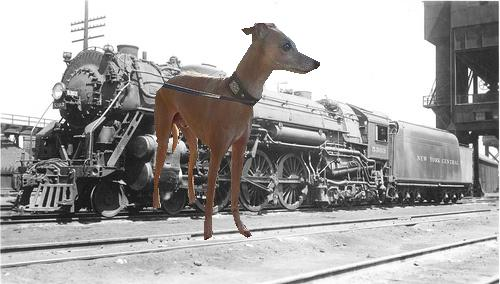tampered: (154, 24, 320, 240)
